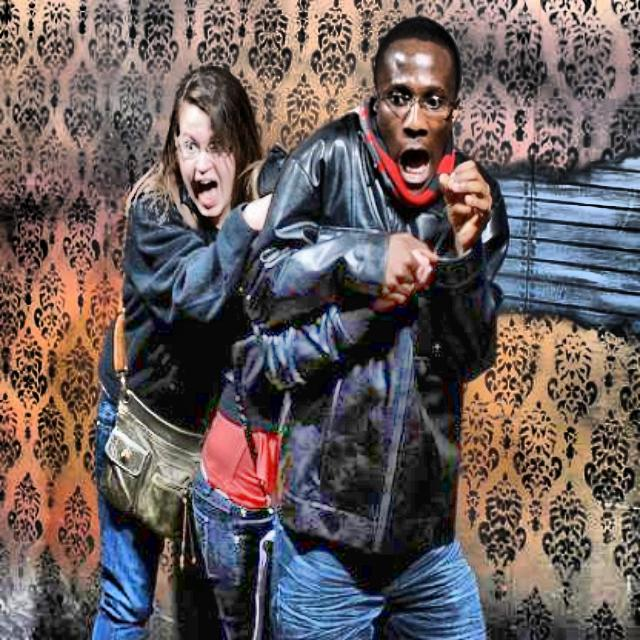fear: (358, 18, 482, 199), (153, 64, 257, 213)
